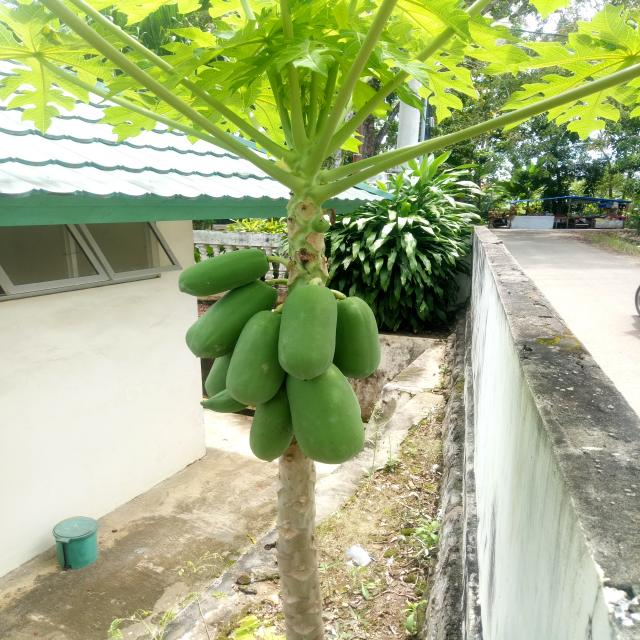Pepaya unrippen: (277, 370, 363, 466), (177, 240, 273, 295), (282, 286, 332, 384), (223, 318, 277, 404), (338, 300, 396, 380), (182, 288, 239, 357), (243, 402, 287, 467)
